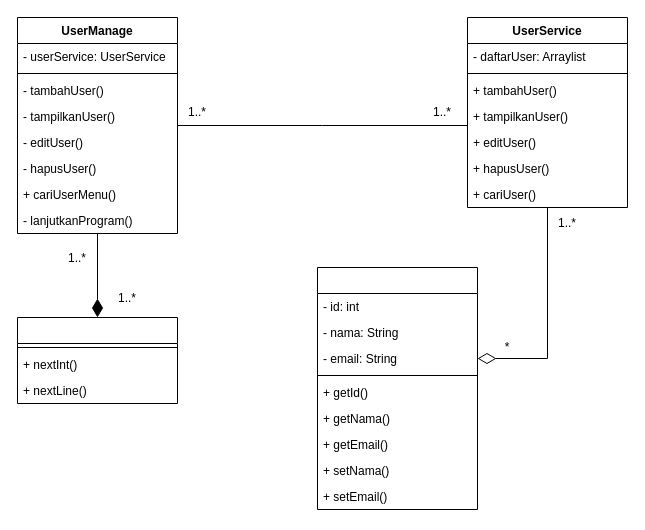
The diagram is 645 pixels wide and 530 high, and some of its shapes have lost their labels. The box of each missing label's shape, as (x1, y1, x2, y2) in pixels:
Scanner: (16, 316, 178, 404)
User: (316, 266, 478, 510)
